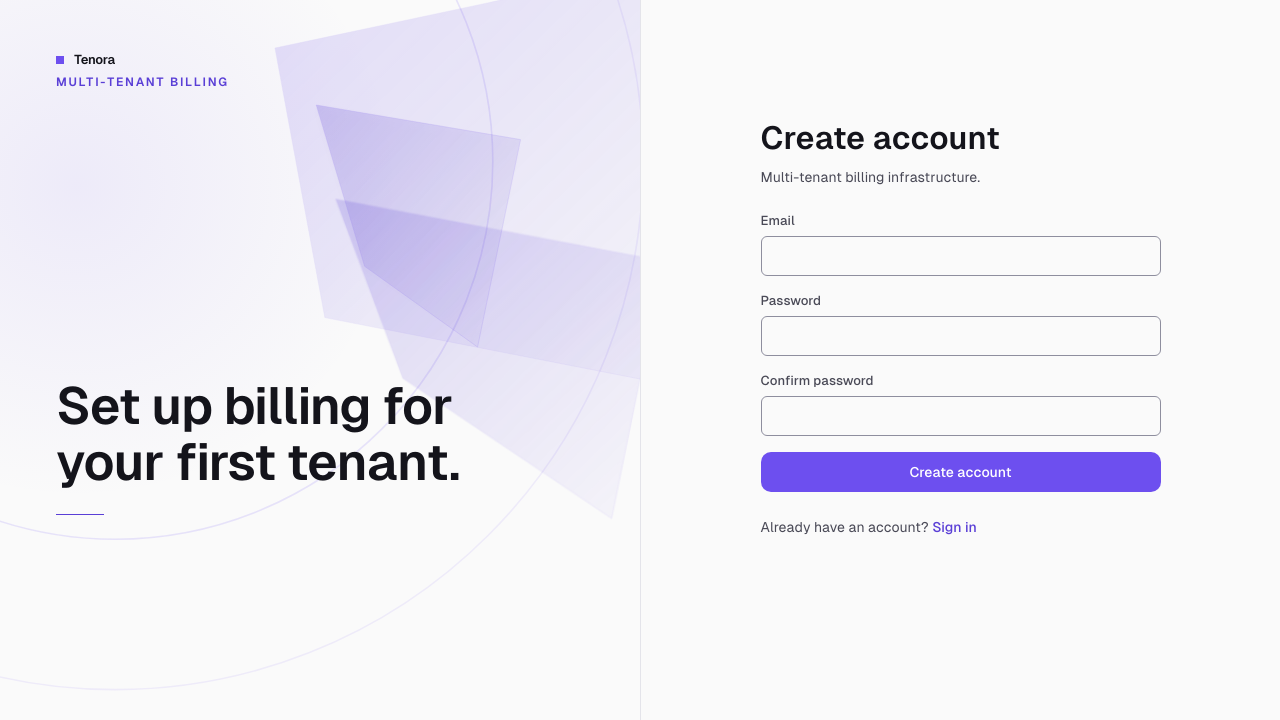
Test: RegisterPage › catches a password-confirmation mismatch before any request
The image size is (1280, 720).
expect the heading "Create account" is shown: met, box left=760, top=120, right=1000, bottom=156
Type "new@example.com" into the field labelled "Email" at (960, 256), box left=760, top=236, right=1160, bottom=276
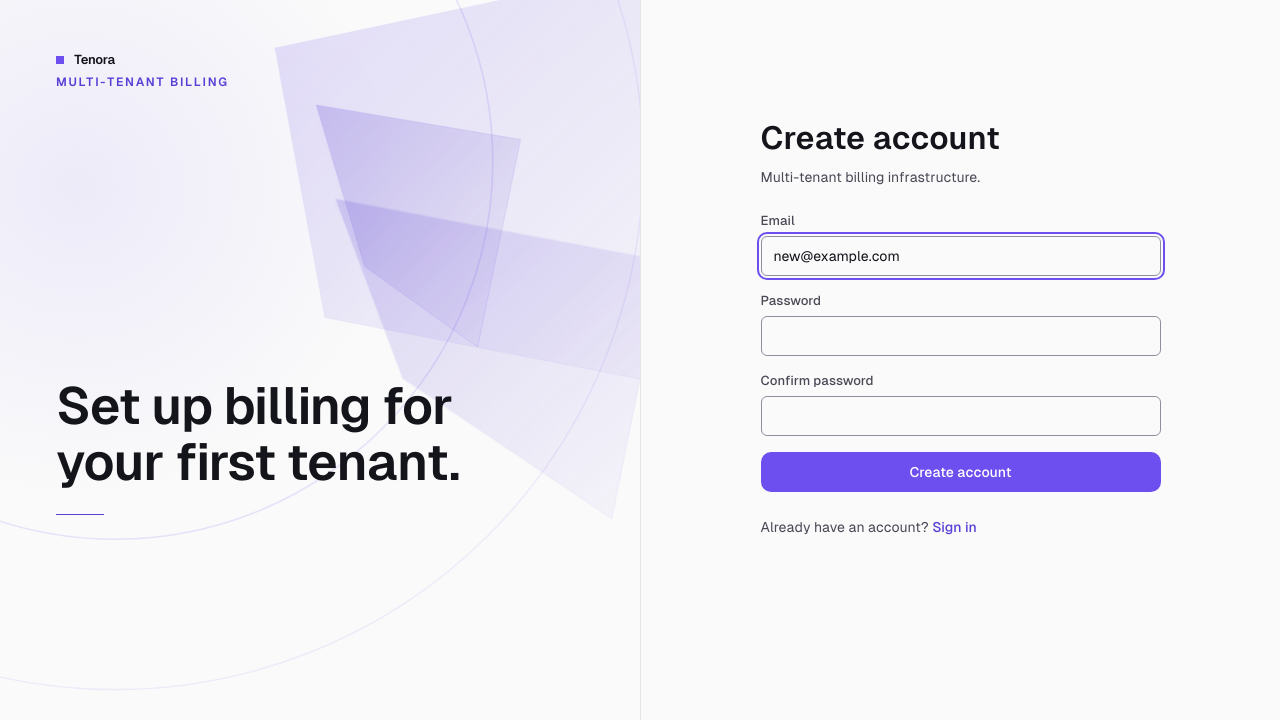
Type "correct-horse-staple-42" into the password field labelled "Password" at (960, 336), box left=760, top=316, right=1160, bottom=356
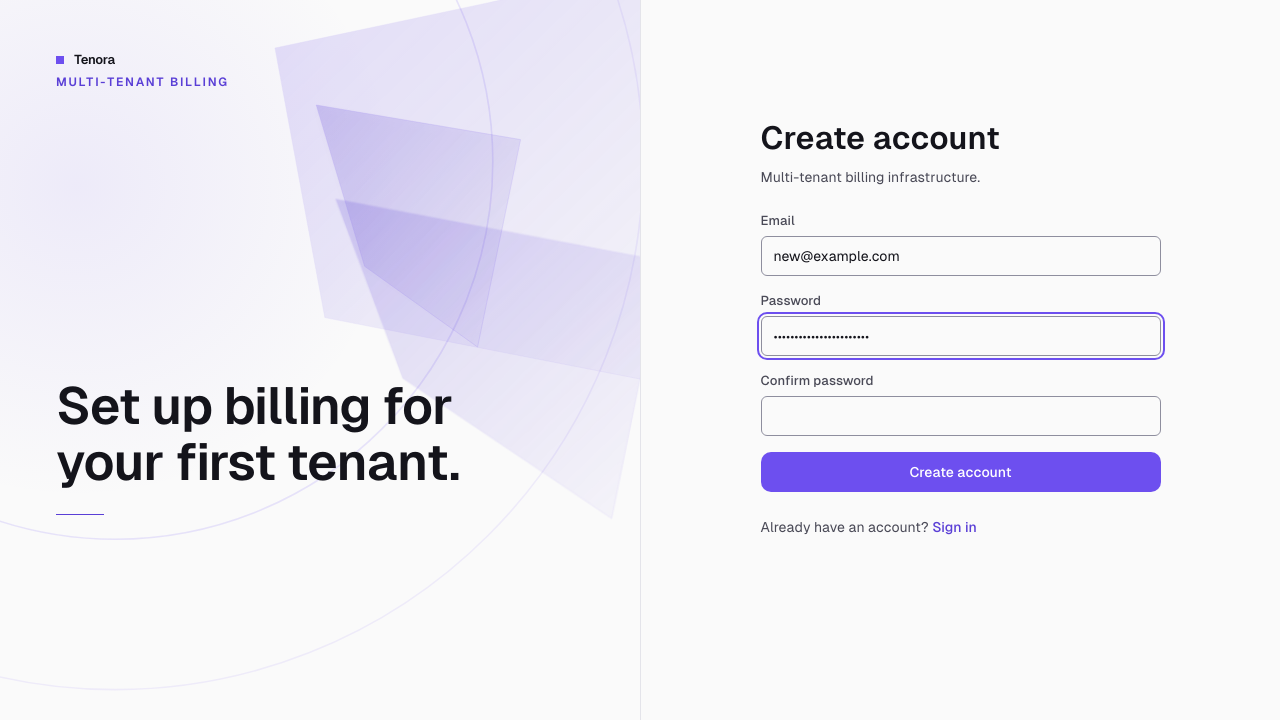
Type "different-thing-99" into the password field labelled "Confirm password" at (960, 416), box left=760, top=396, right=1160, bottom=436
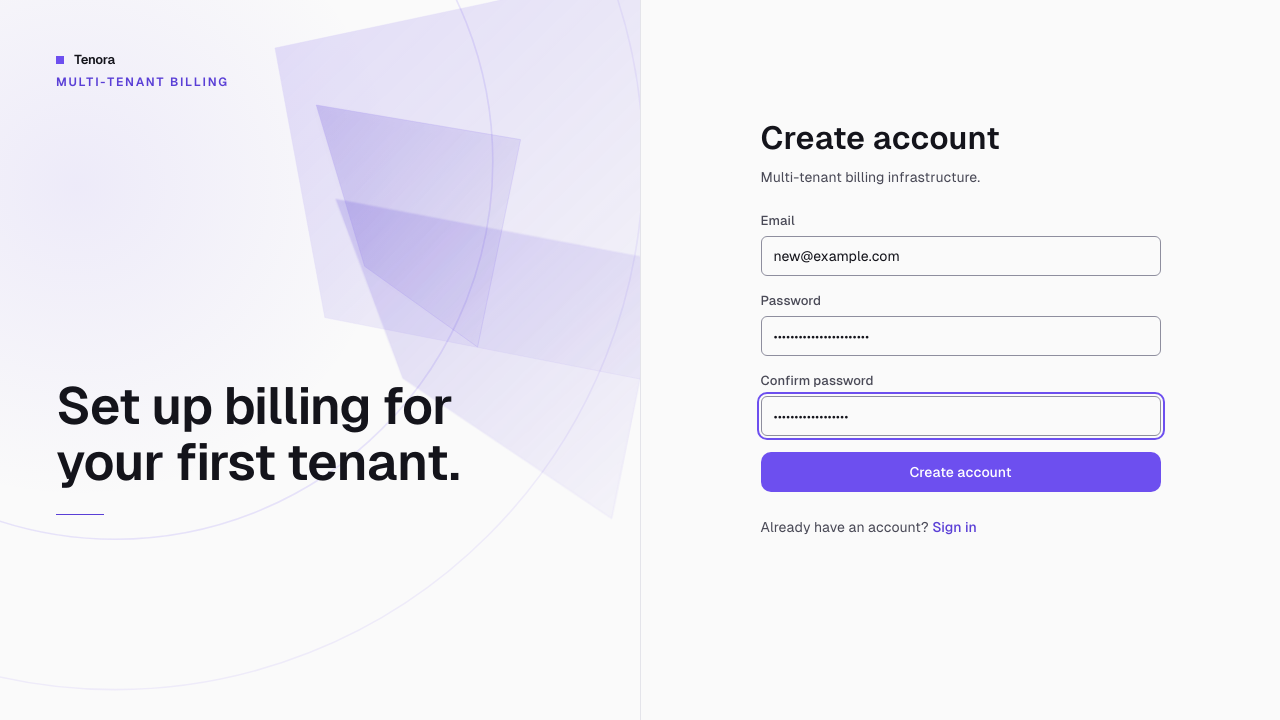
Click the button "Create account" at (960, 472), box left=760, top=452, right=1160, bottom=492
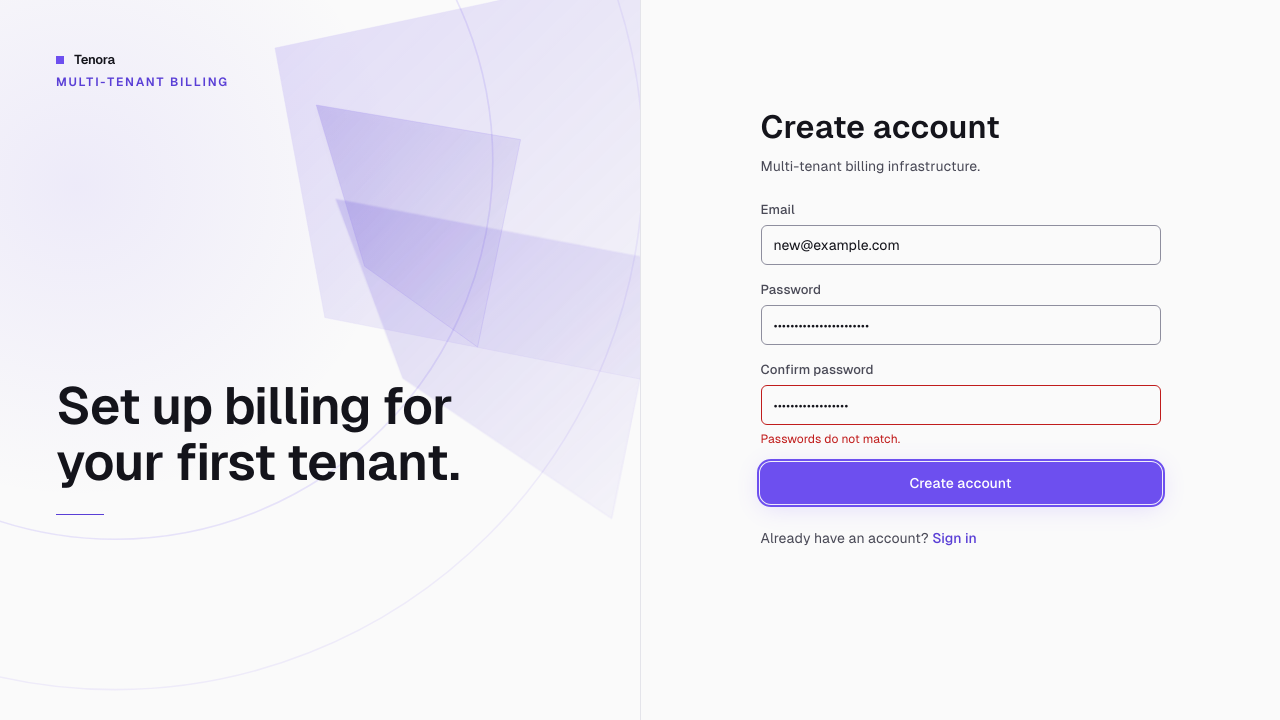
expect the text "Passwords do not match." is shown: met, box left=760, top=432, right=900, bottom=446
